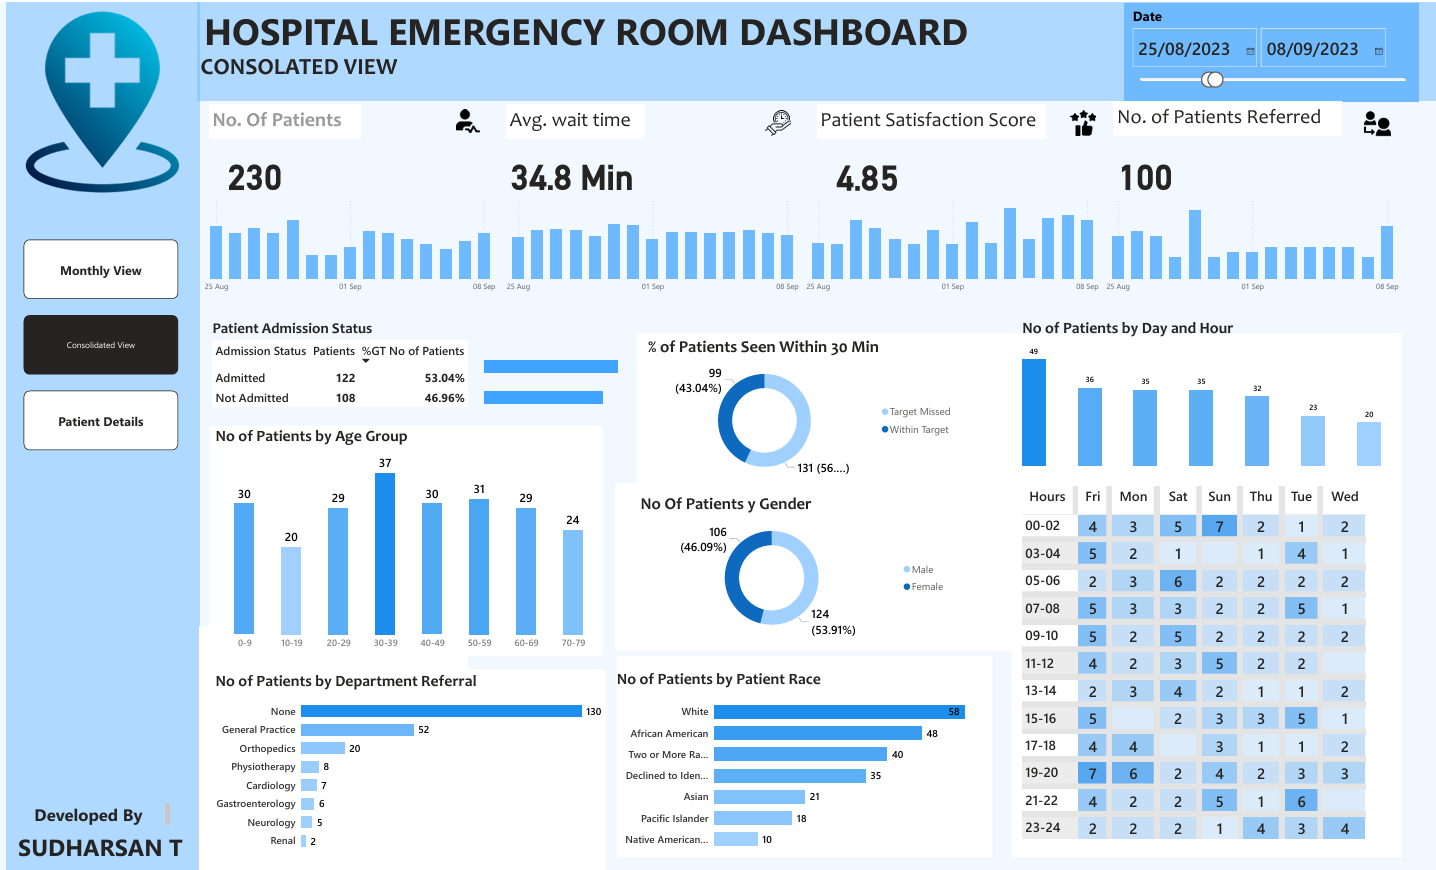

Layout of this report page (visuals, bound fields, positions):
{"tool":"powerbi","page":{"name":"Consolidated View","canvas":[2300,1400],"ordinal":1},"visuals":[{"type":"textbox","box":[335.3,164.1,242.5,54.7],"z":0},{"type":"shape","box":[10,0,310,1399],"z":1000},{"type":"shape","box":[316.2,0,1983,156.9],"z":2000},{"type":"textbox","box":[321,0,1253.1,95.1],"z":3000},{"type":"textbox","box":[316.2,73.7,382.8,61.8],"z":4000},{"type":"card","fields":{"Values":["Hospital ER_Data.No of Patients"]},"box":[321,214,173.6,118.9],"z":5000},{"type":"slicer","fields":{"Values":["Date Table.Date"]},"box":[1799.9,2.4,470.8,156.9],"z":6000},{"type":"textbox","box":[320,1000,430,400],"z":7000},{"type":"textbox","box":[810.8,164.1,221.1,54.7],"z":8000},{"type":"columnChart","fields":{"Category":["Date Table.Date"],"Y":["Hospital ER_Data.No of Patients"]},"box":[321,302,477.9,171.2],"z":9000},{"type":"card","fields":{"Values":["Hospital ER_Data.Average Wait Time"]},"box":[810.8,214,209.2,118.9],"z":10000},{"type":"columnChart","fields":{"Category":["Date Table.Date"],"Y":["Avg(Hospital ER_Data.Patient Waittime)"]},"box":[803.7,302,480.3,171.2],"z":11000},{"type":"textbox","box":[1783.3,159.3,366.2,54.7],"z":12000},{"type":"card","fields":{"Values":["Hospital ER_Data.No. Of Patient Referred"]},"box":[1764.3,214,137.9,118.9],"z":13000},{"type":"columnChart","fields":{"Category":["Date Table.Date"],"Y":["Hospital ER_Data.No. Of Patient Referred"]},"box":[1764.3,302,480.3,171.2],"z":14000},{"type":"card","fields":{"Values":["Hospital ER_Data.Satisfaction Score"]},"box":[1284,214,209.2,121.3],"z":15000},{"type":"columnChart","fields":{"Category":["Date Table.Date"],"Y":["Hospital ER_Data.Satisfaction Score"]},"box":[1284,304.3,480.3,168.8],"z":16000},{"type":"textbox","box":[1307.8,164.1,366.2,54.7],"z":17000},{"type":"pivotTable","title":"Patient Admission Status","fields":{"Rows":["Hospital ER_Data.Admission Status"],"Values":["Hospital ER_Data.No of Patients1","Hospital ER_Data.No of Patients"]},"box":[335.3,506.5,594.4,161.7],"z":18000},{"type":"barChart","fields":{"Category":["Hospital ER_Data.Admission Status"],"Y":["Hospital ER_Data.No of Patients"]},"box":[770.4,535,273.4,142.7],"z":19000},{"type":"shape","box":[335.3,677.7,630.1,368.5],"z":20000},{"type":"clusteredColumnChart","fields":{"Category":["Hospital ER_Data.Age Group"],"Y":["Hospital ER_Data.No of Patients"]},"box":[340,677.7,630.1,368.5],"z":21000},{"type":"shape","box":[340,1067.6,630.1,332.9],"z":22000},{"type":"clusteredBarChart","fields":{"Category":["Hospital ER_Data.Department Referral"],"Y":["Hospital ER_Data.No of Patients"]},"box":[340,1070,627.7,299.6],"z":23000},{"type":"shape","box":[1020,528.8,600,270],"z":24000},{"type":"donutChart","title":"% of Patients Seen Within 30 Min","fields":{"Category":["Hospital ER_Data.Waittime status"],"Y":["Hospital ER_Data.No of Patients"]},"box":[1031.9,535,504.1,235.4],"z":25000},{"type":"shape","box":[984.4,770.4,634.9,268.7],"z":26000},{"type":"donutChart","title":"No Of Patients y Gender","fields":{"Y":["Hospital ER_Data.No of Patients"],"Category":["Hospital ER_Data.Patient Gender"]},"box":[1020,787,504.1,235.4],"z":27000},{"type":"shape","box":[986.8,1046.2,601.6,323.4],"z":28000},{"type":"clusteredBarChart","fields":{"Y":["Hospital ER_Data.No of Patients"],"Category":["Hospital ER_Data.Patient Race"]},"box":[982,1067.6,592.1,302],"z":29000},{"type":"shape","box":[1619.2,530.2,625.3,839.3],"z":30000},{"type":"pivotTable","fields":{"Rows":["Hospital ER_Data.Waittime Interval"],"Columns":["Date Table.Day Name"],"Values":["Hospital ER_Data.No of Patients"]},"box":[1631.1,770.4,587.3,584.9],"z":31000},{"type":"columnChart","title":"No of Patients by Day and Hour","fields":{"Category":["Date Table.Day Name"],"Y":["Hospital ER_Data.No of Patients"]},"box":[1631.1,506.5,587.3,242.5],"z":32000},{"type":"image","box":[14.3,9.5,299.6,299.6],"z":33000},{"type":"image","box":[725.5,166.4,48.2,50],"z":34000},{"type":"image","box":[1221.1,167.8,51.1,51.1],"z":35000},{"type":"image","box":[2178.6,167.1,52.9,54.3],"z":36000},{"type":"image","box":[1702.5,167.5,62.5,51.2],"z":37000},{"type":"pageNavigator","box":[37.6,380.4,247.8,337.6],"z":38000},{"type":"textbox","box":[49.9,1276.8,228.3,45.2],"z":39000},{"type":"textbox","box":[23.8,1322,290.1,64.2],"z":40000}]}

Visuals, with their boxes in screenshot pixels (x1, y1, x2, y2), scaled from the page's 2300x1400 canvas onto the 1436x870 screenshot:
textbox: pyautogui.locateOnScreen(209, 102, 361, 136)
shape: pyautogui.locateOnScreen(6, 0, 200, 869)
shape: pyautogui.locateOnScreen(197, 0, 1435, 98)
textbox: pyautogui.locateOnScreen(200, 0, 983, 59)
textbox: pyautogui.locateOnScreen(197, 46, 436, 84)
card - Hospital ER_Data.No of Patients: pyautogui.locateOnScreen(200, 133, 309, 207)
slicer - Date Table.Date: pyautogui.locateOnScreen(1124, 1, 1418, 99)
textbox: pyautogui.locateOnScreen(200, 621, 468, 869)
textbox: pyautogui.locateOnScreen(506, 102, 644, 136)
columnChart - Date Table.Date x Hospital ER_Data.No of Patients: pyautogui.locateOnScreen(200, 188, 499, 294)
card - Hospital ER_Data.Average Wait Time: pyautogui.locateOnScreen(506, 133, 637, 207)
columnChart - Date Table.Date x Avg(Hospital ER_Data.Patient Waittime): pyautogui.locateOnScreen(502, 188, 802, 294)
textbox: pyautogui.locateOnScreen(1113, 99, 1342, 133)
card - Hospital ER_Data.No. Of Patient Referred: pyautogui.locateOnScreen(1102, 133, 1188, 207)
columnChart - Date Table.Date x Hospital ER_Data.No. Of Patient Referred: pyautogui.locateOnScreen(1102, 188, 1401, 294)
card - Hospital ER_Data.Satisfaction Score: pyautogui.locateOnScreen(802, 133, 932, 208)
columnChart - Date Table.Date x Hospital ER_Data.Satisfaction Score: pyautogui.locateOnScreen(802, 189, 1102, 294)
textbox: pyautogui.locateOnScreen(817, 102, 1045, 136)
"Patient Admission Status" pivotTable: pyautogui.locateOnScreen(209, 315, 580, 415)
barChart - Hospital ER_Data.Admission Status x Hospital ER_Data.No of Patients: pyautogui.locateOnScreen(481, 332, 652, 421)
shape: pyautogui.locateOnScreen(209, 421, 603, 650)
clusteredColumnChart - Hospital ER_Data.Age Group x Hospital ER_Data.No of Patients: pyautogui.locateOnScreen(212, 421, 606, 650)
shape: pyautogui.locateOnScreen(212, 663, 606, 869)
clusteredBarChart - Hospital ER_Data.Department Referral x Hospital ER_Data.No of Patients: pyautogui.locateOnScreen(212, 665, 604, 851)
shape: pyautogui.locateOnScreen(637, 329, 1011, 496)
"% of Patients Seen Within 30 Min" donutChart: pyautogui.locateOnScreen(644, 332, 959, 479)
shape: pyautogui.locateOnScreen(615, 479, 1011, 646)
"No Of Patients y Gender" donutChart: pyautogui.locateOnScreen(637, 489, 952, 635)
shape: pyautogui.locateOnScreen(616, 650, 992, 851)
clusteredBarChart - Hospital ER_Data.No of Patients x Hospital ER_Data.Patient Race: pyautogui.locateOnScreen(613, 663, 983, 851)
shape: pyautogui.locateOnScreen(1011, 329, 1401, 851)
pivotTable - Hospital ER_Data.Waittime Interval x Date Table.Day Name: pyautogui.locateOnScreen(1018, 479, 1385, 842)
"No of Patients by Day and Hour" columnChart: pyautogui.locateOnScreen(1018, 315, 1385, 465)
image: pyautogui.locateOnScreen(9, 6, 196, 192)
image: pyautogui.locateOnScreen(453, 103, 483, 134)
image: pyautogui.locateOnScreen(762, 104, 794, 136)
image: pyautogui.locateOnScreen(1360, 104, 1393, 138)
image: pyautogui.locateOnScreen(1063, 104, 1102, 136)
pageNavigator: pyautogui.locateOnScreen(23, 236, 178, 446)
textbox: pyautogui.locateOnScreen(31, 793, 174, 822)
textbox: pyautogui.locateOnScreen(15, 822, 196, 861)
